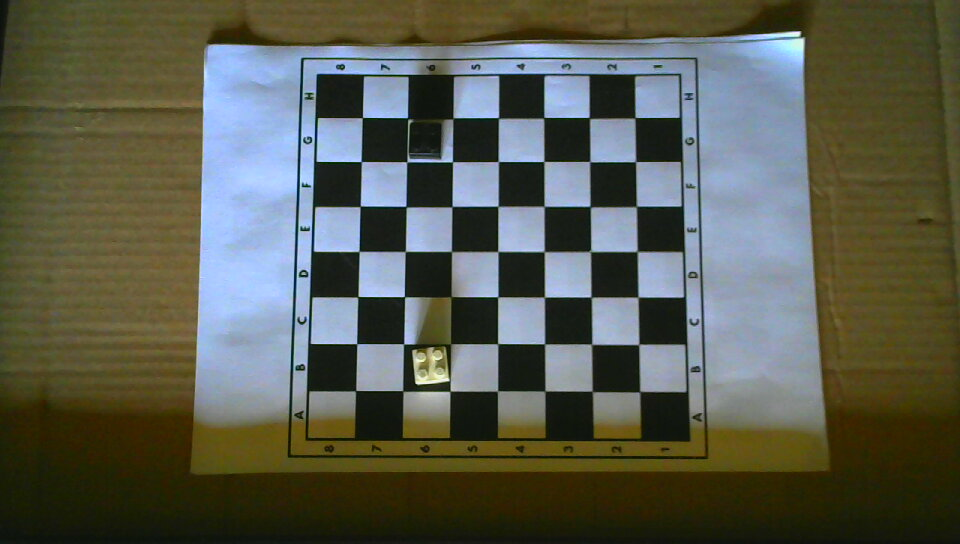bp: (407, 120, 443, 159)
wp: (409, 346, 450, 386)
